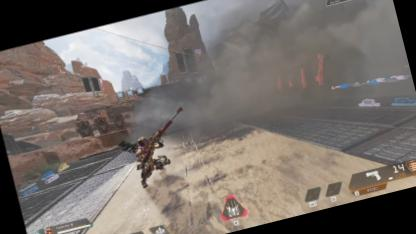Target: (124, 130, 173, 188)
